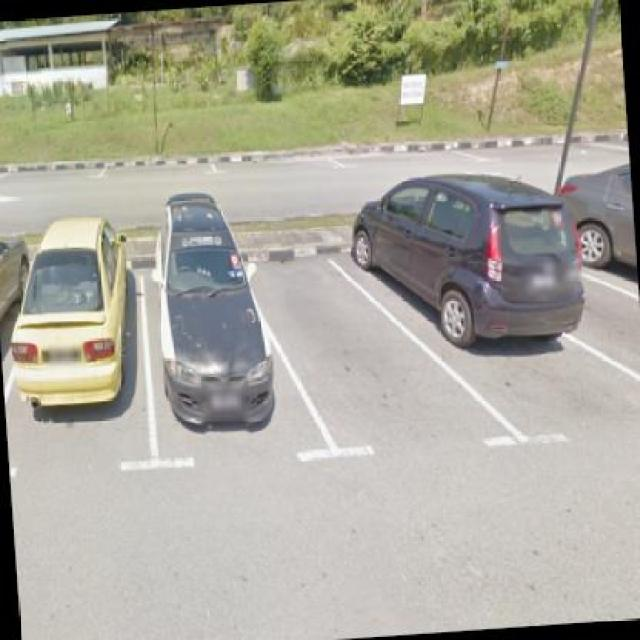Car: (353, 160, 612, 384), (143, 153, 286, 475), (1, 196, 139, 433), (561, 124, 638, 270)
Empty: (259, 254, 438, 460)
